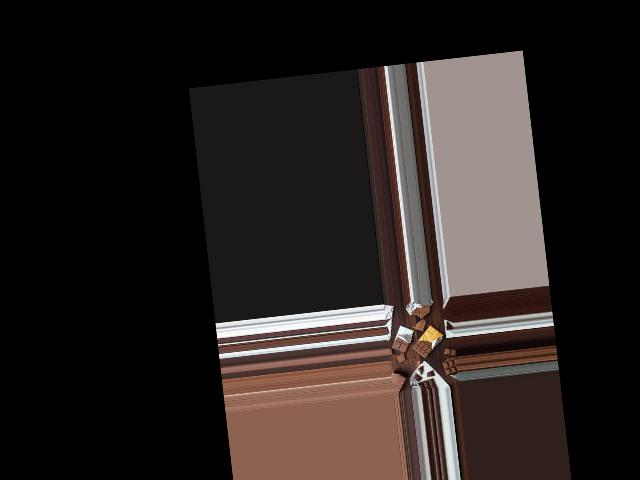chocolate: (387, 325, 416, 354)
